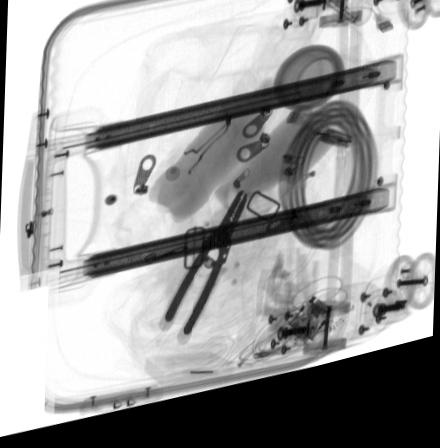Pliers: (164, 200, 250, 344)
